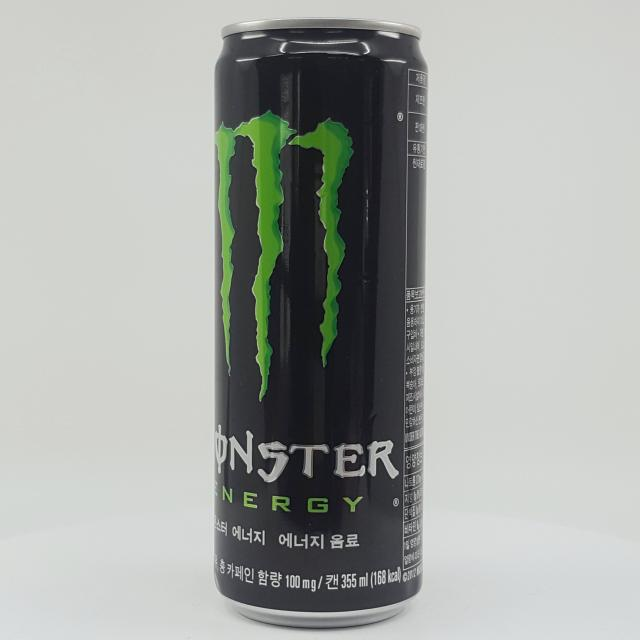--------355ML: (214, 17, 428, 628)
